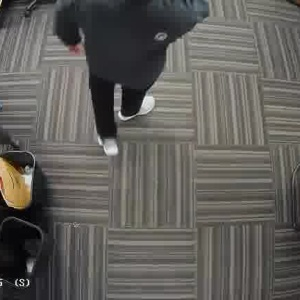person: (76, 0, 183, 141)
